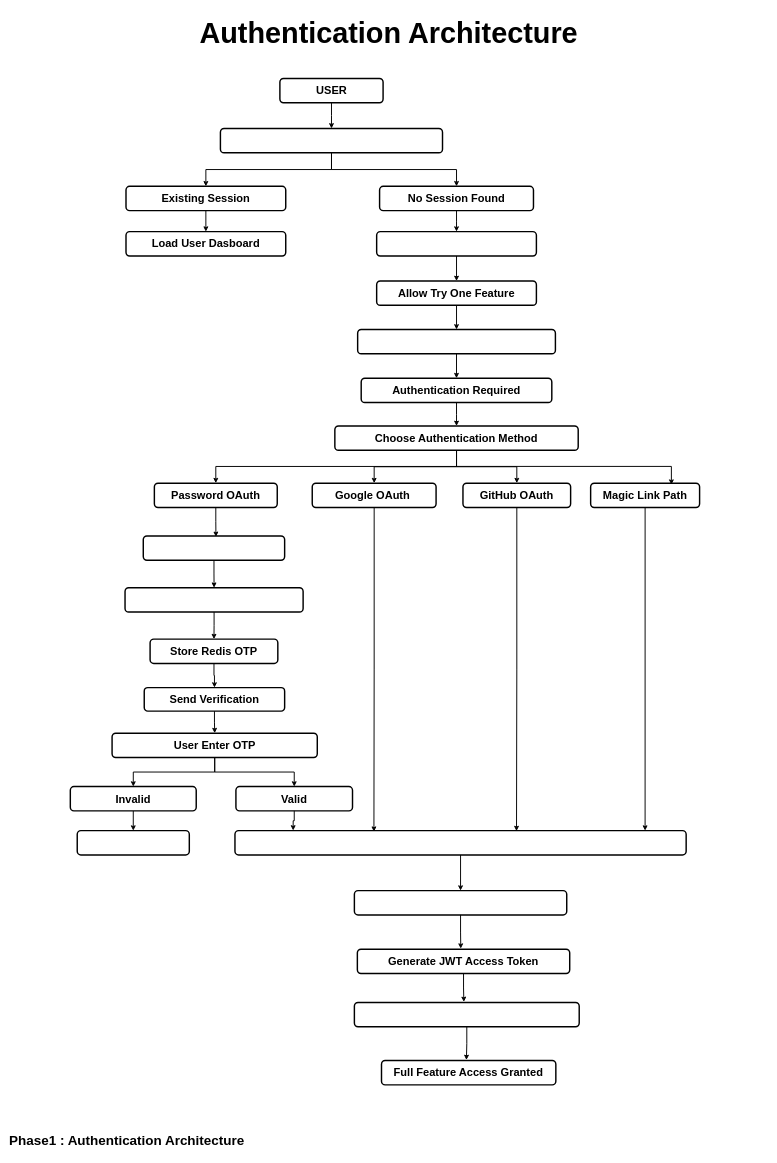
Some shapes in this 777 by 1163 pixel diagram are drawn without their labels. Each missing label, with the centre of its shape:
"Authenticate User" goes at (x=460, y=902).
"Authentication Gateway" goes at (x=331, y=140).
"Create Guest Session" goes at (x=456, y=243).
"Create User account" goes at (x=213, y=548).
"Generate 6-Digit Email OTP" goes at (x=214, y=600).
"Generate Session + Merge Guest Data" goes at (x=466, y=1014).
"Mark email Verified" goes at (x=460, y=842).
"Result Ready - Locked" goes at (x=456, y=341).
"Retry / Cooldown" goes at (x=133, y=842).
